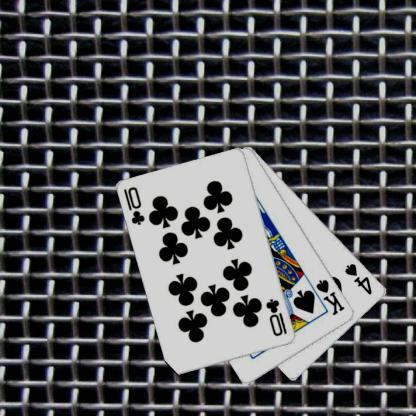10C: (122, 184, 146, 227), (264, 296, 288, 338)
4S: (342, 261, 374, 296)
KS: (314, 277, 346, 317)
